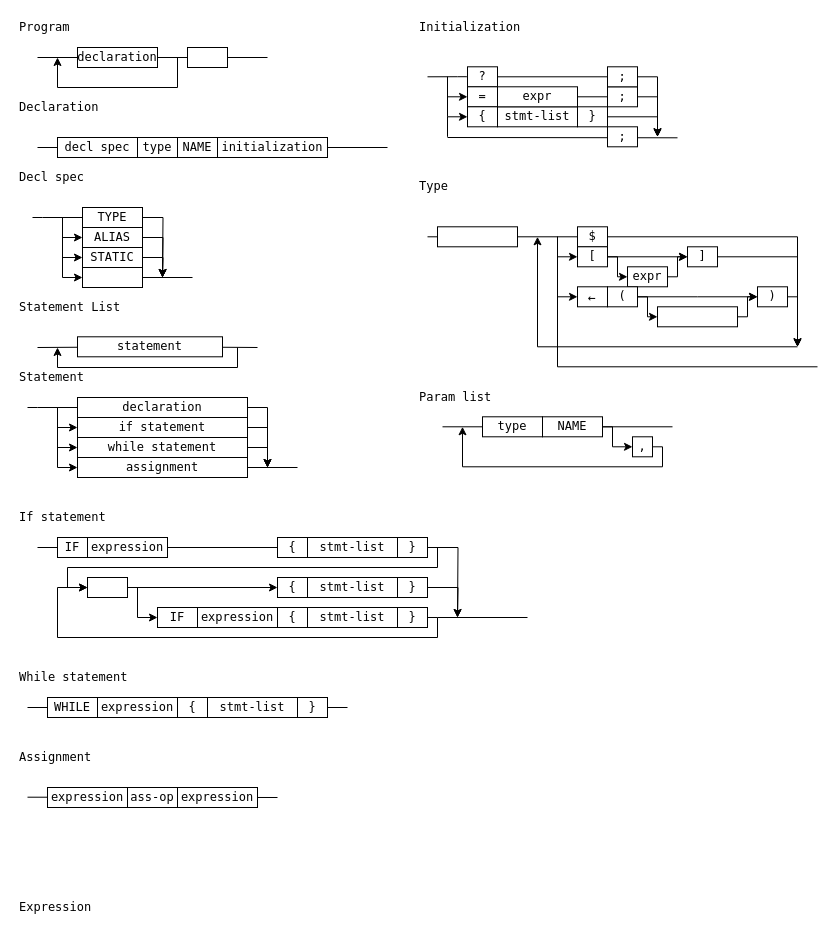
Some shapes in this 836 by 934 pixel diagram are drawn without their labels. Each missing label, with the box of its shape:
base-type: (436, 226, 518, 247)
ELSE: (86, 576, 128, 598)
EOF: (186, 46, 228, 68)
EXTERN: (82, 266, 142, 288)
param-list: (656, 306, 738, 327)
